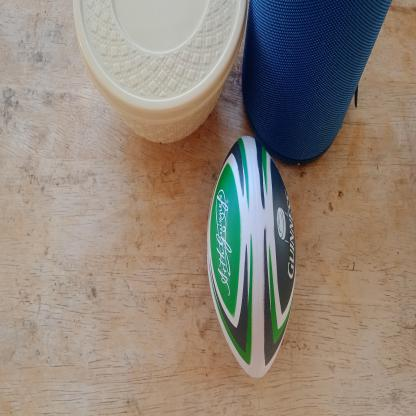Rugby: (205, 134, 298, 383)
